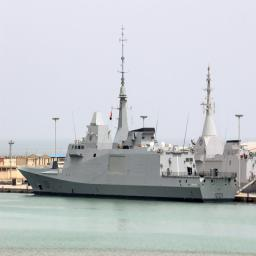Fragata: (18, 20, 240, 199)
